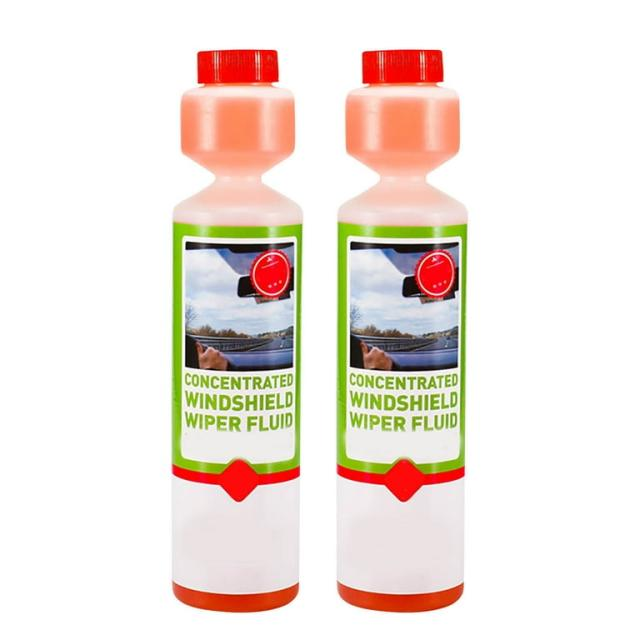winwinshield_washer: (168, 47, 304, 614), (334, 47, 468, 613)
